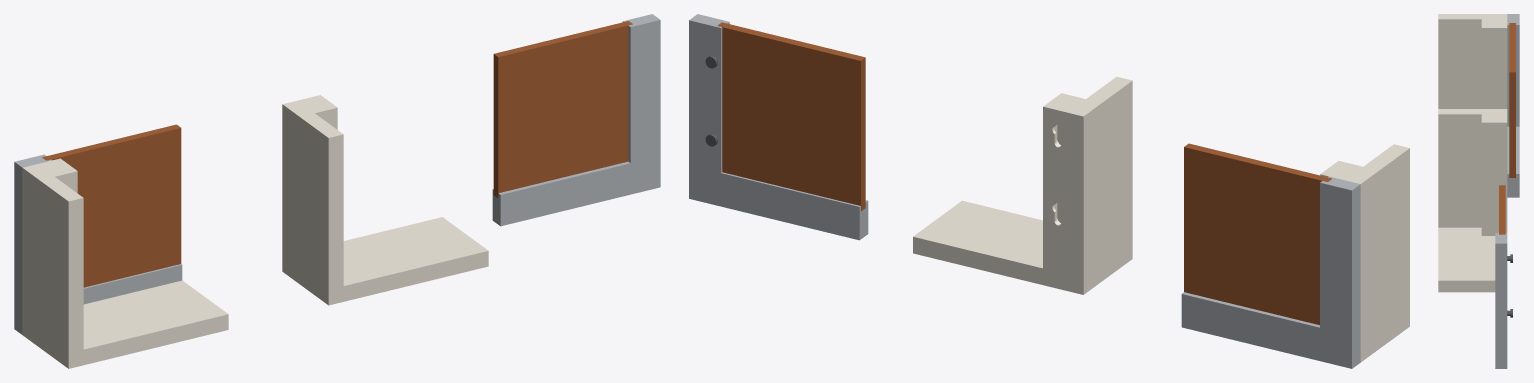
The model's file is 1B_keyhole_slots.glb.
3 views of the same model, side by side, from view 1: azimuth 30°, elevation 25°; view 2: azimuth 150°, elevation 25°; view 3: azimuth 270°, elevation 25° (orthographic). The views are drawn at different scales.
Visible parts, largest first — view 1: opened/body, assembled/body, opened/leather, assembled/leather, opened/frame, assembled/frame; view 2: opened/body, opened/leather, assembled/leather, assembled/frame, opened/frame, assembled/body; view 3: opened/body, assembled/body, opened/frame, assembled/frame, assembled/leather, opened/leather.
Part boxes in pixels (x1,y1,x2,y2): opened/body: (282,95,488,305); assembled/body: (22,158,228,368); opened/leather: (493,21,632,197); assembled/leather: (42,124,181,287); opened/frame: (492,14,660,226); assembled/frame: (14,154,182,334); opened/body: (913,76,1132,294); opened/leather: (717,22,865,211); assembled/leather: (1184,143,1332,325); assembled/frame: (1181,176,1360,368); opened/frame: (689,14,868,240); assembled/body: (1320,144,1409,362); opened/body: (1438,109,1507,292); assembled/body: (1438,14,1507,108); opened/frame: (1495,233,1507,368); assembled/frame: (1507,14,1519,197); assembled/leather: (1509,23,1515,177); opened/leather: (1499,185,1505,234).
Size of the model in its own units: 0.63 by 0.16 by 0.094.
